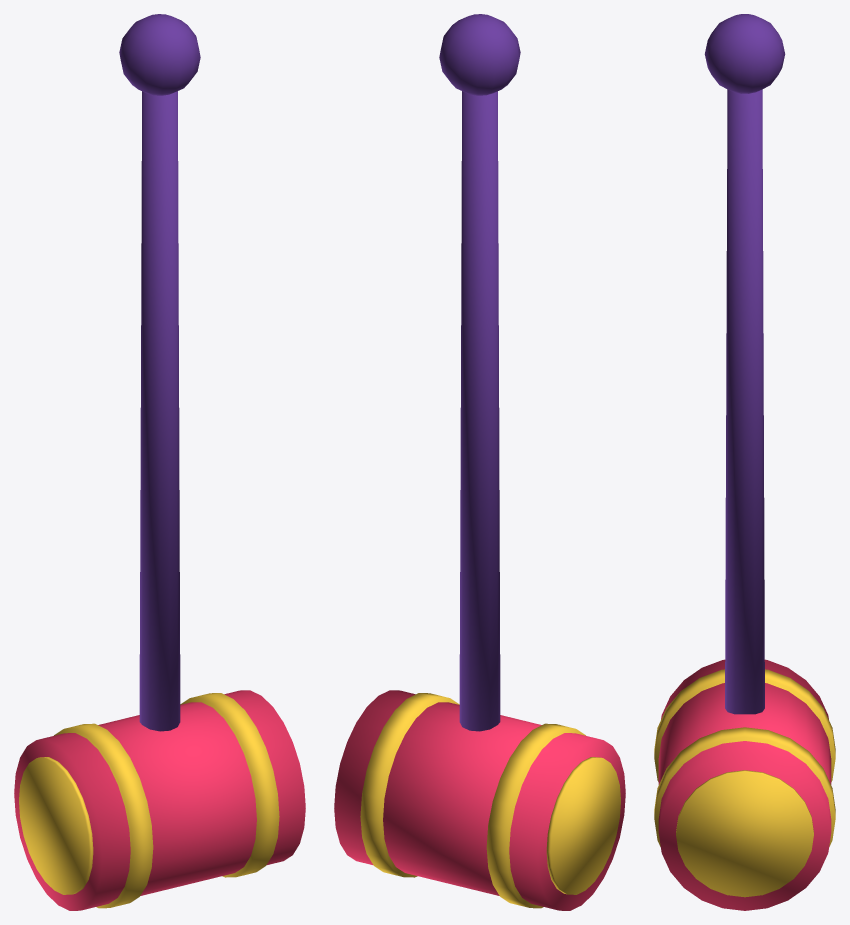
Rendered from prop_hammer.glb.
The picture shows the model from 3 angles, left to right: view 1: azimuth 30°, elevation 25°; view 2: azimuth 150°, elevation 25°; view 3: azimuth 270°, elevation 25°; orthographic projection. The views are drawn at different scales.
Parts seen in each view (by area): view 1: Hammer_Head, Hammer_Handle, Hammer_Bands; view 2: Hammer_Head, Hammer_Handle, Hammer_Bands; view 3: Hammer_Handle, Hammer_Bands, Hammer_Head.
Part boxes in pixels (x1=…): Hammer_Head: x1=14, y1=690, x2=305, y2=910; Hammer_Handle: x1=119, y1=14, x2=200, y2=731; Hammer_Bands: x1=19, y1=693, x2=279, y2=908; Hammer_Head: x1=334, y1=690, x2=625, y2=910; Hammer_Handle: x1=439, y1=14, x2=520, y2=731; Hammer_Bands: x1=360, y1=693, x2=620, y2=908; Hammer_Handle: x1=704, y1=14, x2=785, y2=714; Hammer_Bands: x1=654, y1=669, x2=835, y2=897; Hammer_Head: x1=658, y1=659, x2=831, y2=910.
Size of the model in its own units: 1.66 by 6.51 by 1.26.
